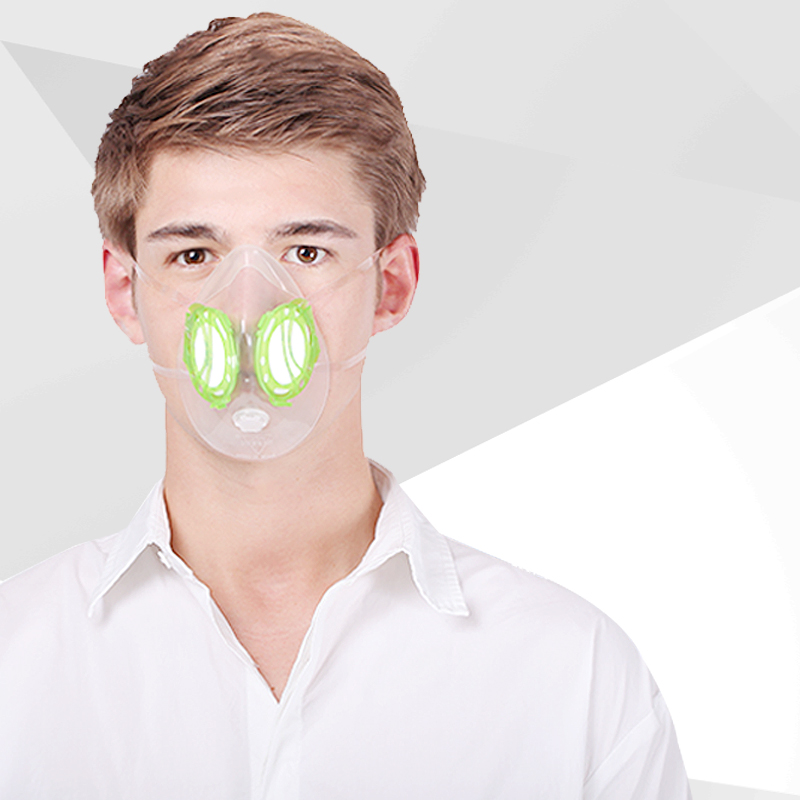face_mask: (135, 157, 372, 461)
